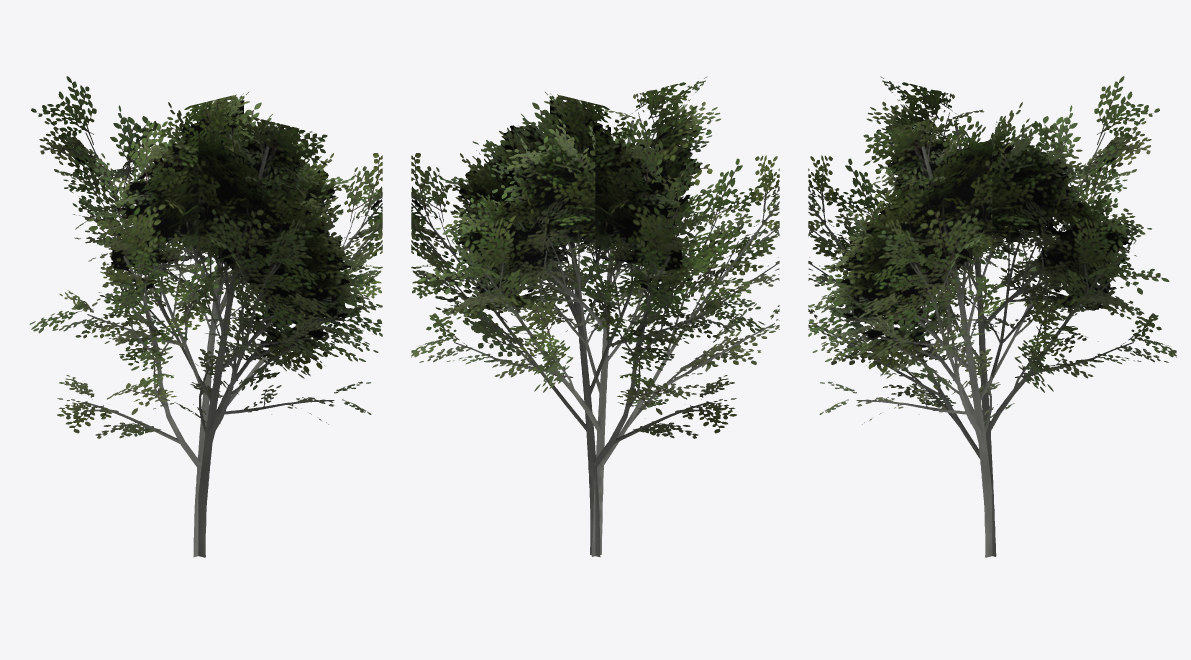
The model's file is buk_mlady_daleko.glb.
3 renders of one model, left to right at view 1: azimuth 30°, elevation 25°; view 2: azimuth 150°, elevation 25°; view 3: azimuth 270°, elevation 25°, orthographic.
Visible parts, largest first — view 1: buk_mlady_daleko; view 2: buk_mlady_daleko; view 3: buk_mlady_daleko.
Part boxes in pixels (x1,y1,x2,y2): buk_mlady_daleko: (29,76,382,557); buk_mlady_daleko: (411,76,779,557); buk_mlady_daleko: (808,76,1176,557).
Size of the model in its own units: 5.88 by 6.9 by 5.09.
3 materials, 3 textured.
